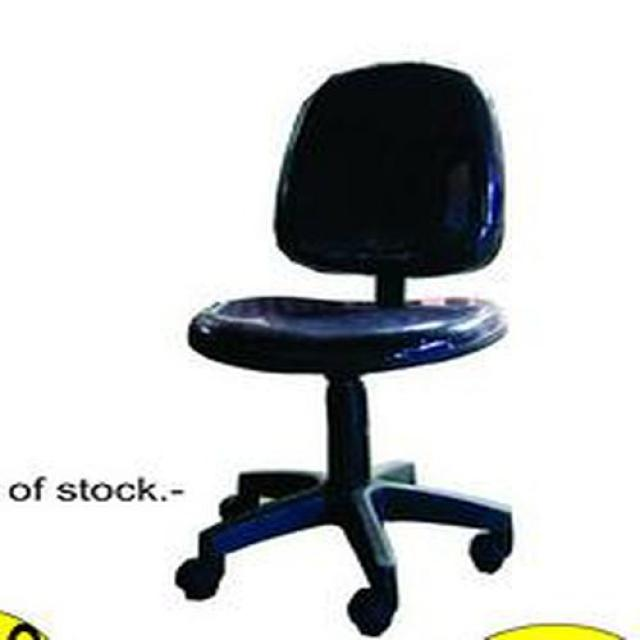swivelchair: (174, 63, 513, 640)
